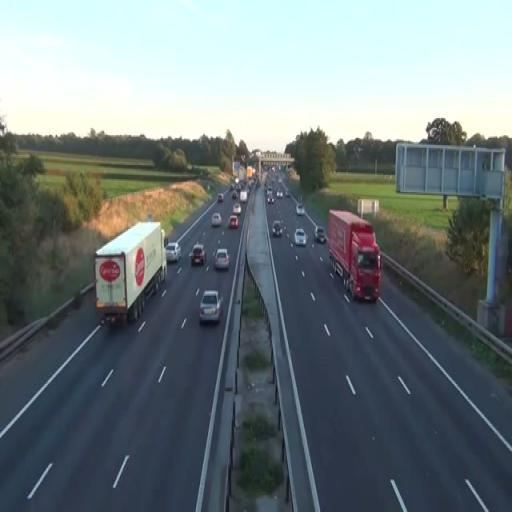Car: (198, 290, 224, 324), (213, 248, 230, 271), (190, 243, 206, 266), (166, 242, 182, 263), (294, 228, 308, 246), (314, 226, 326, 243), (272, 220, 283, 238), (212, 212, 222, 227), (228, 216, 239, 228)
Truck: (94, 220, 167, 326), (326, 209, 384, 303)
